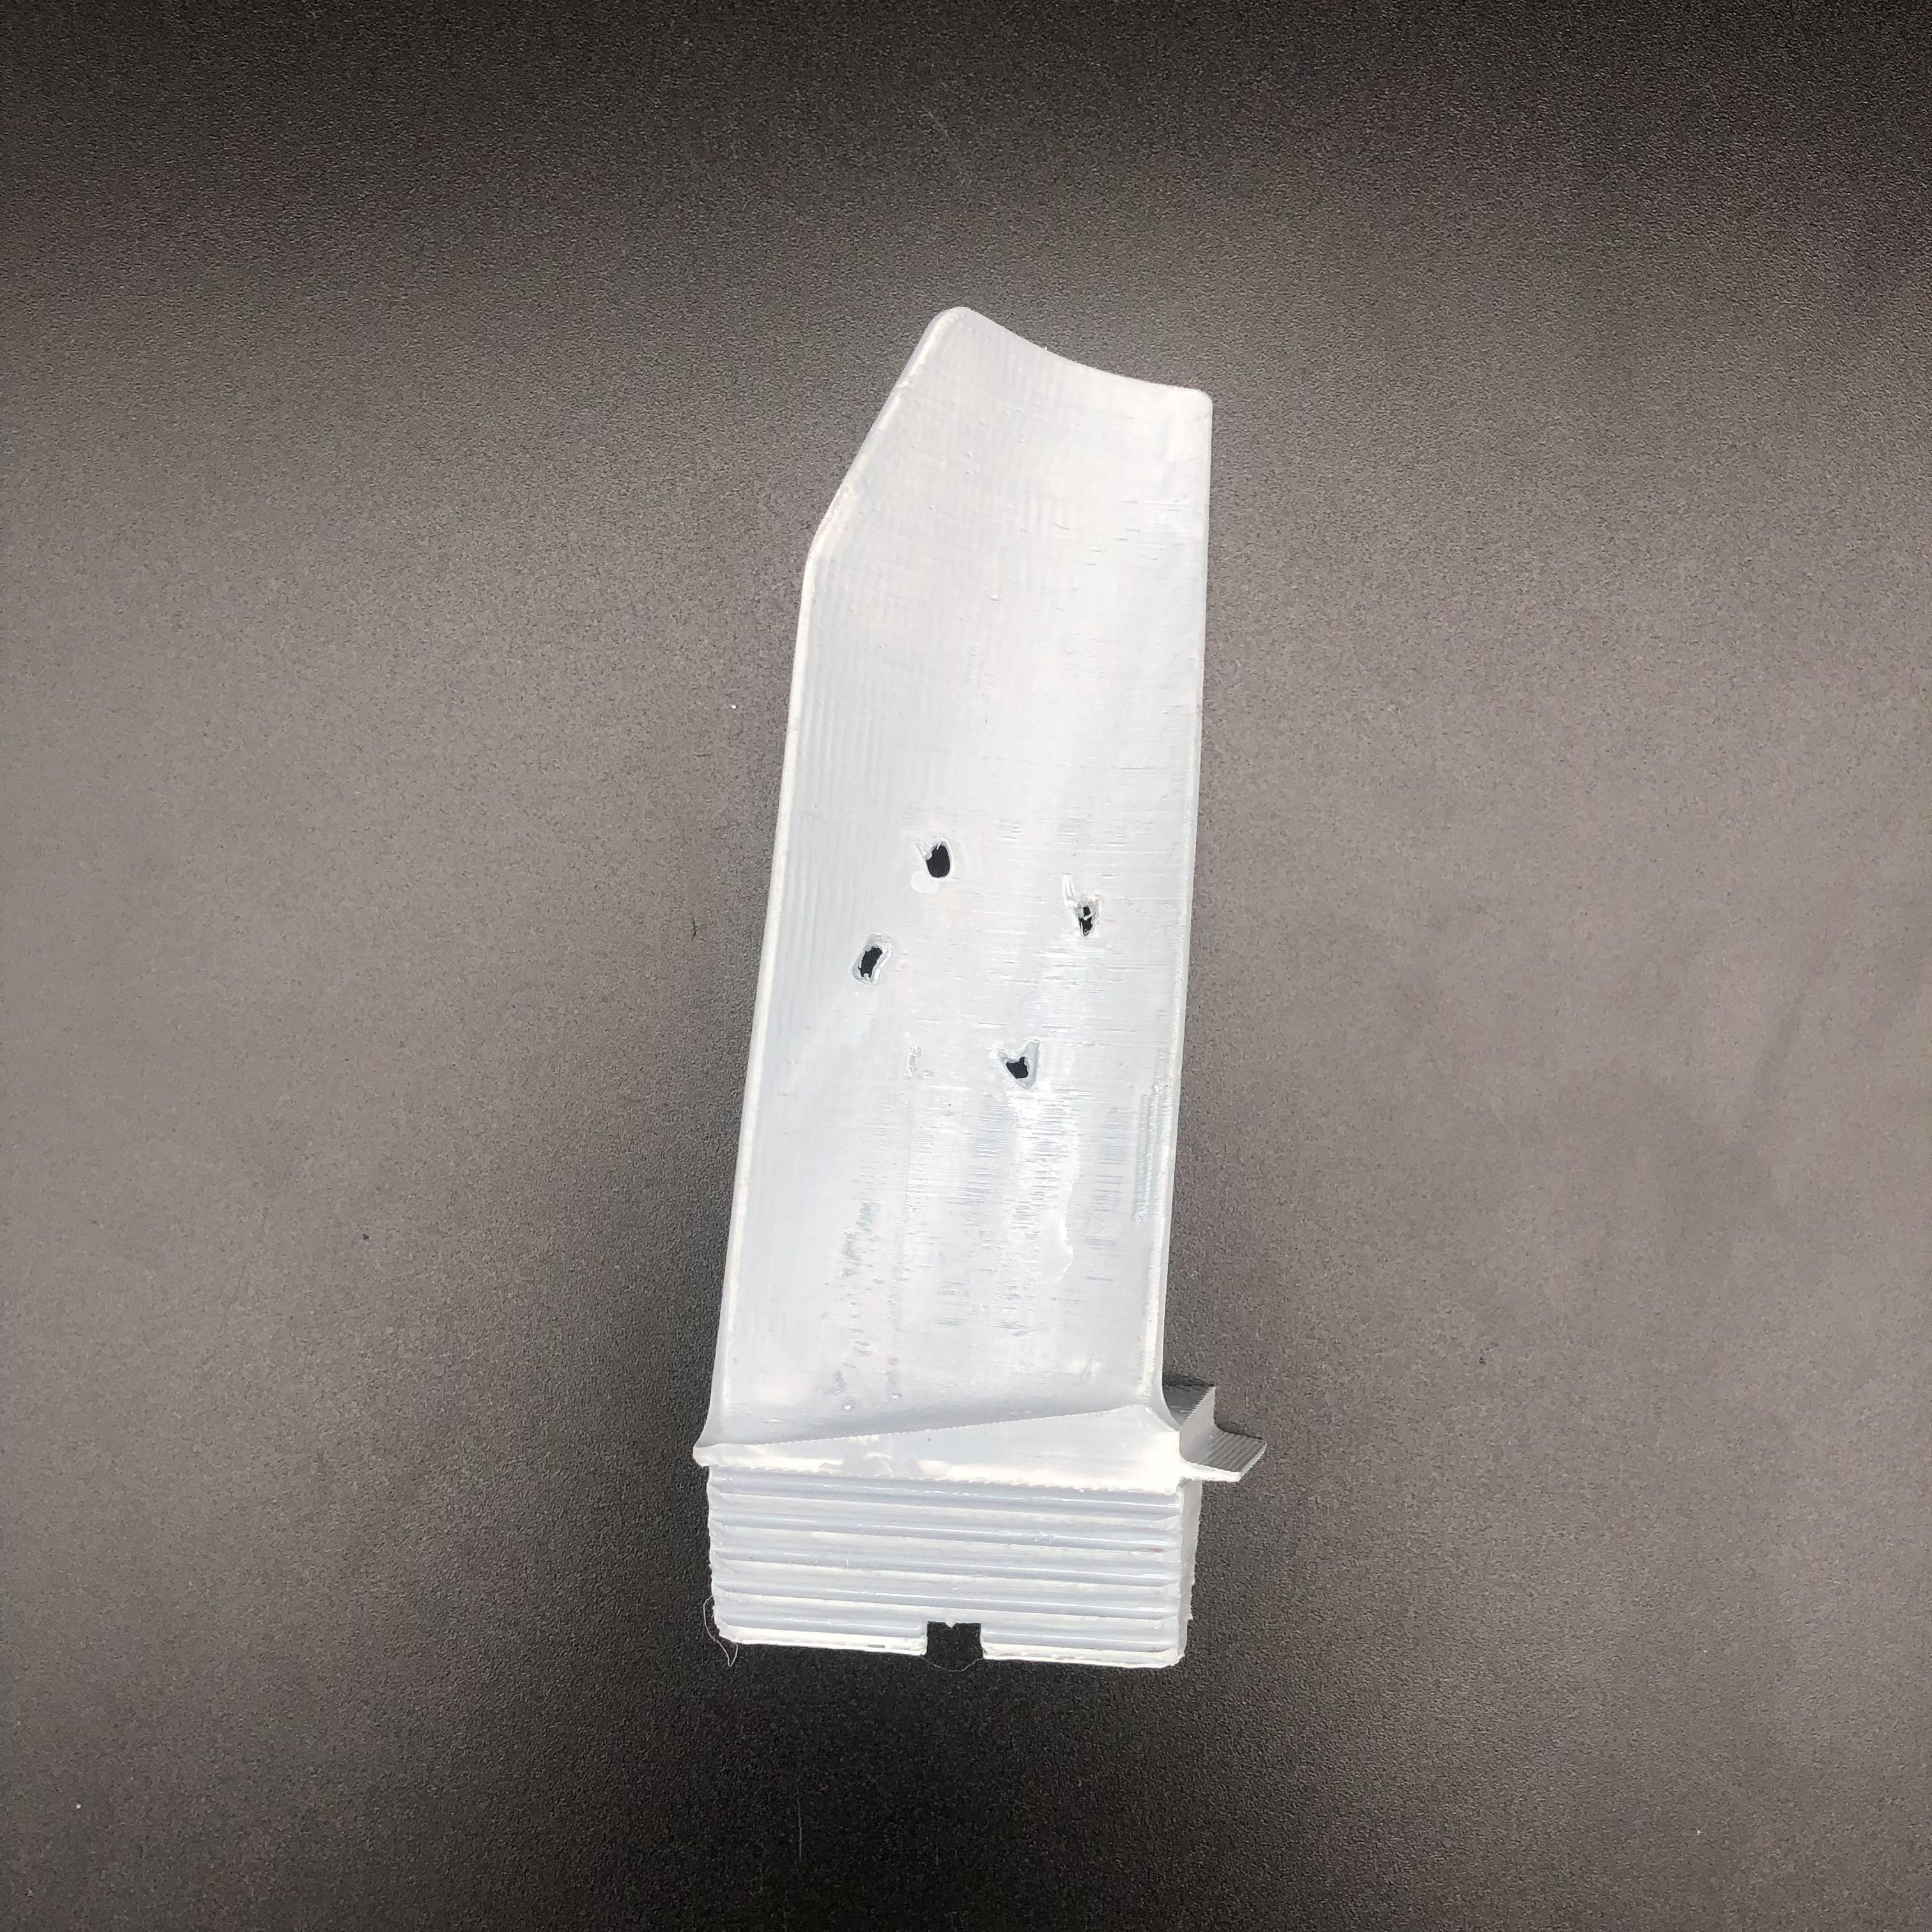breakdown: (847, 842, 1104, 1088)
